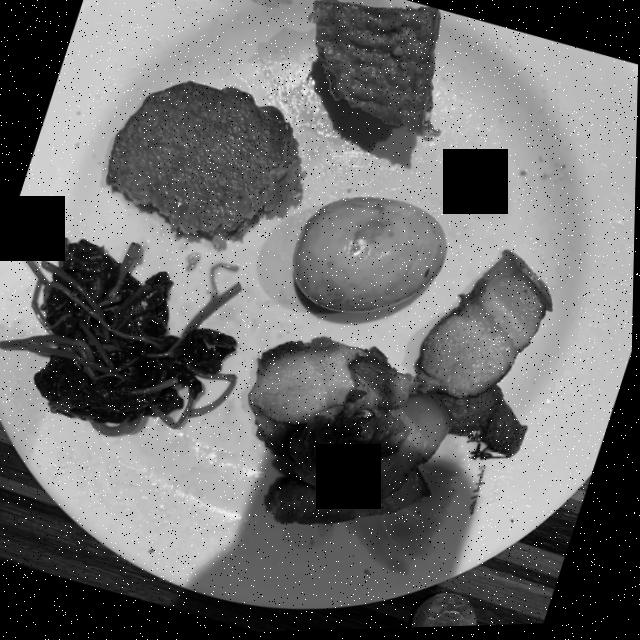Spam: (107, 82, 303, 247)
coin: (414, 596, 480, 630)
egg tofu: (308, 0, 441, 143)
grilled pork: (250, 253, 553, 526)
soy egg: (294, 199, 447, 314)
sweet potato leaves: (1, 237, 242, 436)
